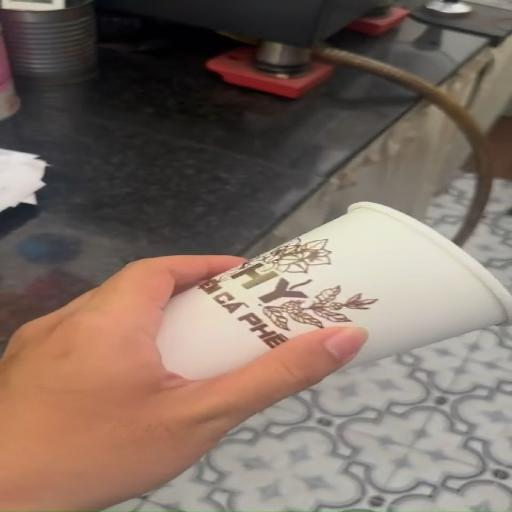Ly_giay: (157, 202, 511, 378)
